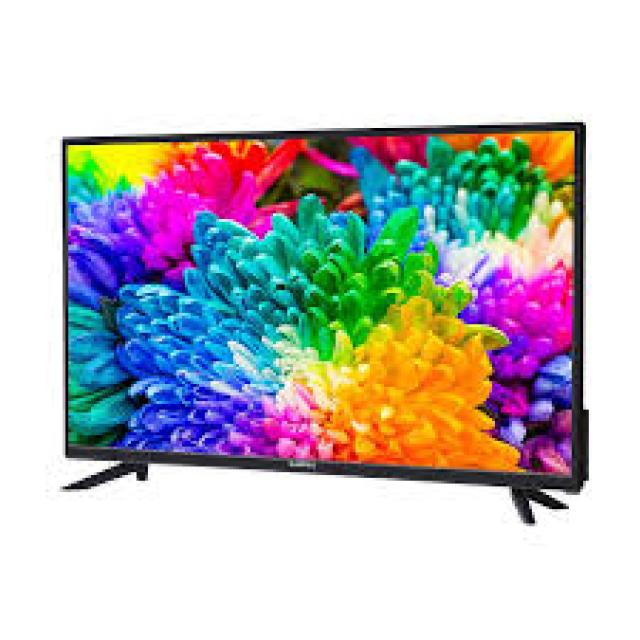tv: (27, 88, 597, 550)
